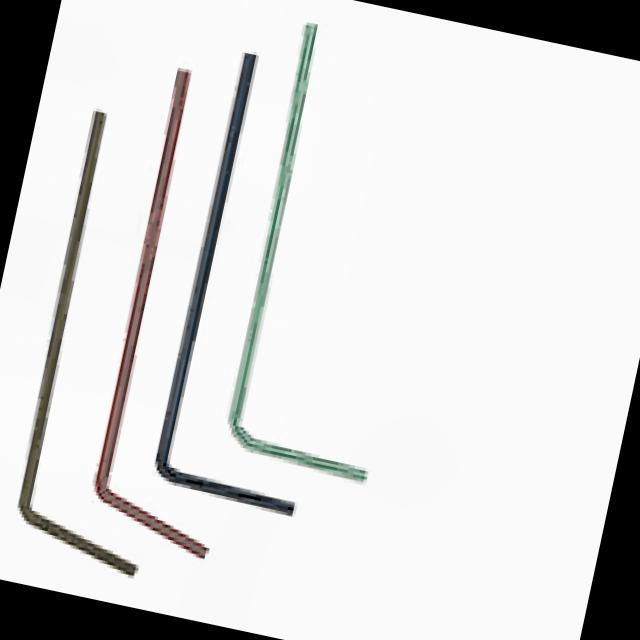plastic straw: (156, 54, 291, 515), (228, 24, 362, 481), (94, 71, 207, 558), (19, 112, 134, 575)
